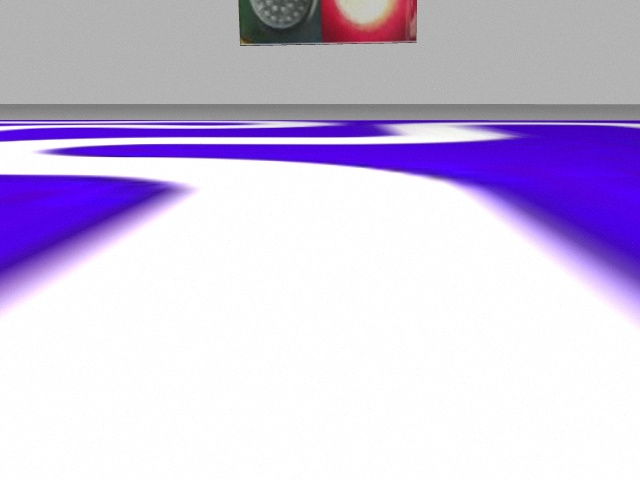red: (321, 1, 417, 41)
